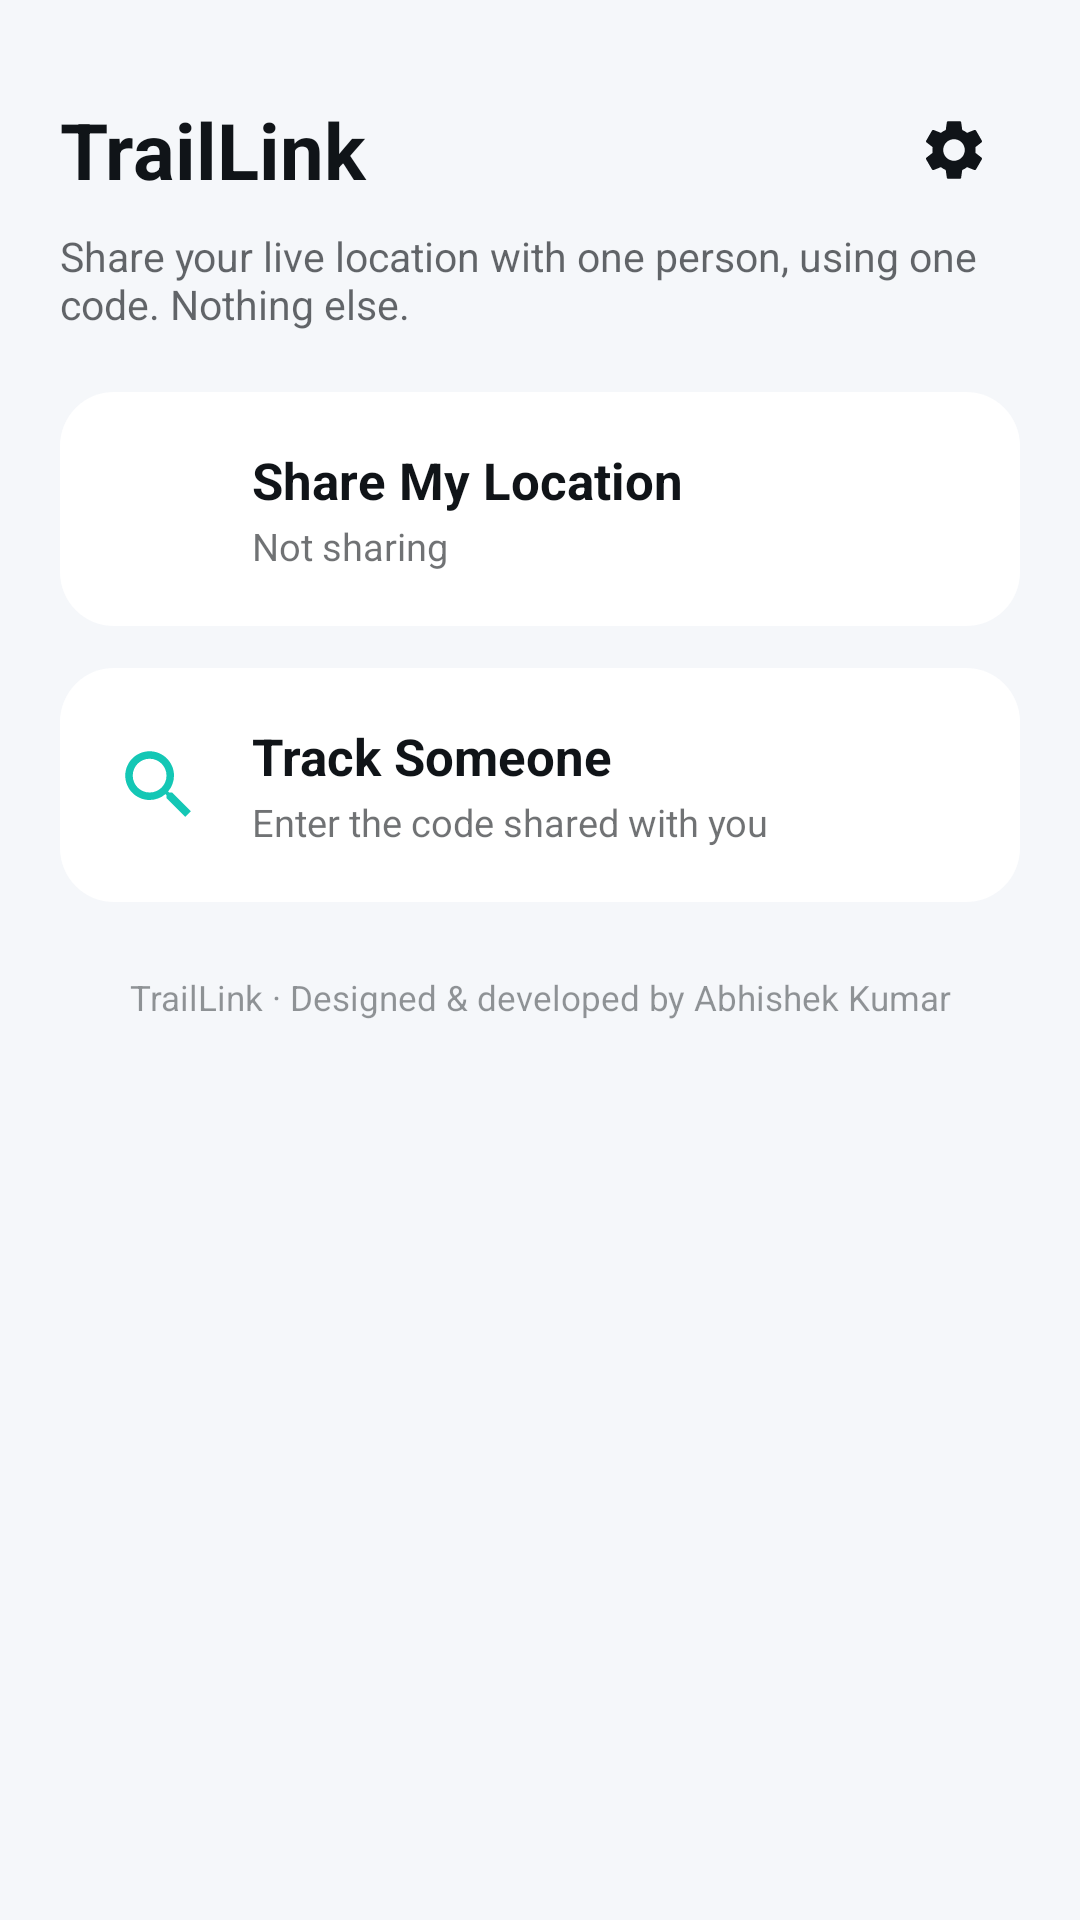

Icons on this 1080×1920 Android screen, each with its box as (x1, y1, x2, y2):
search loc: (125, 751, 191, 817)
Settings: (926, 121, 982, 179)
